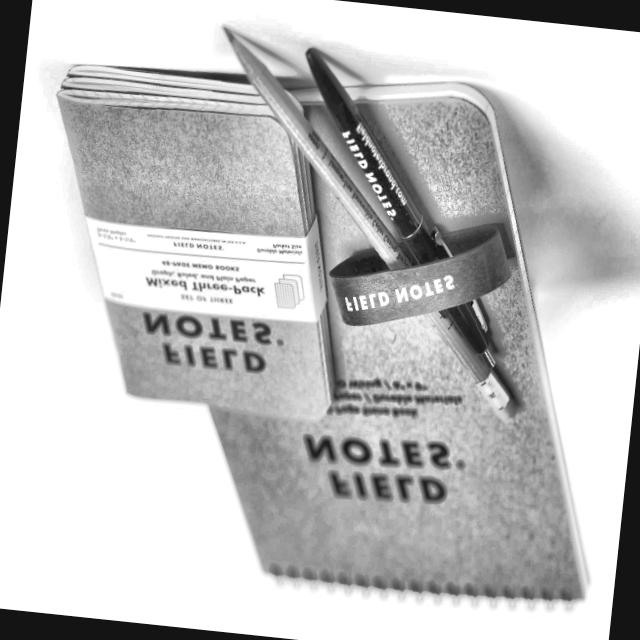Notebook: (176, 42, 558, 640), (39, 37, 368, 440)
Pen: (268, 50, 531, 378)
